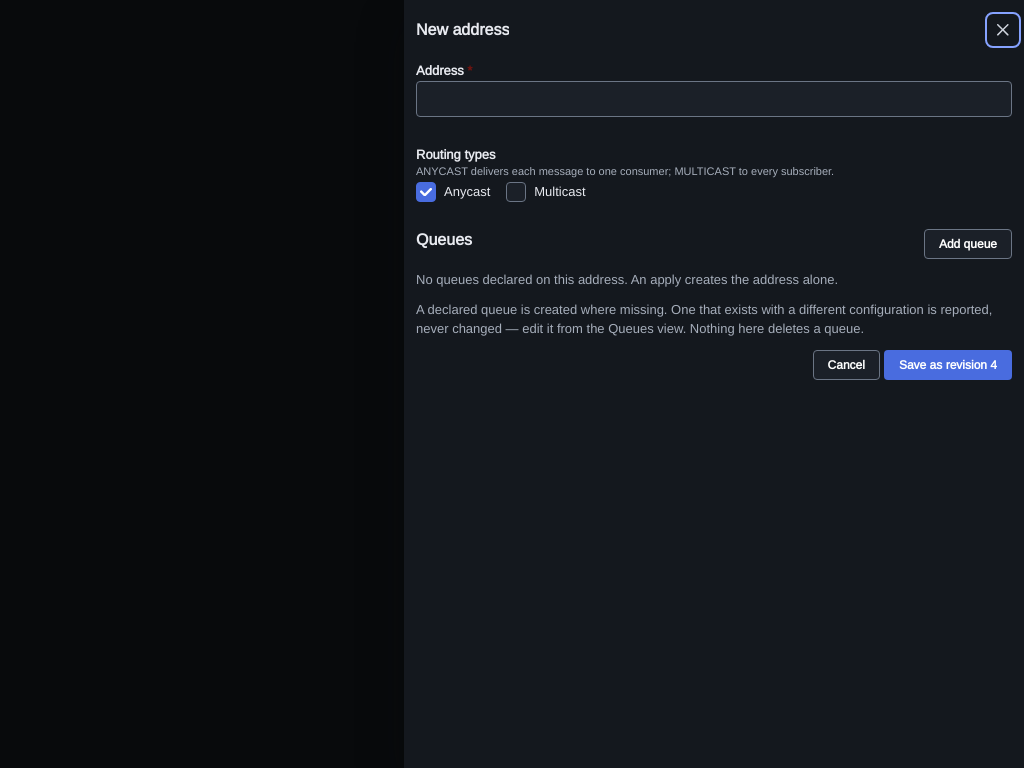
Test: AddressEditor › refuses an empty submit, says why beside the field and in the footer, and focuses the name
Click the button "Save as revision 4" at (948, 365), box [884,350,1012,380]
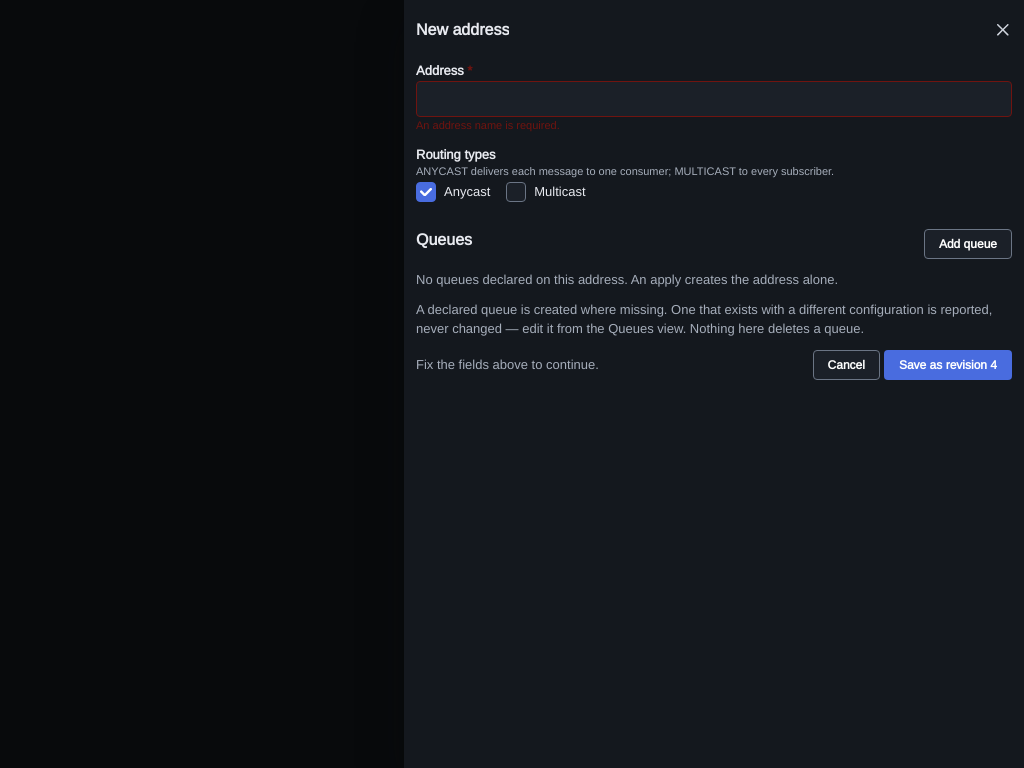
Expected: the text "An address name is required." is shown, [416,118,560,132]
Expected: the text "Fix the fields above to continue." is shown, [416,356,599,374]
